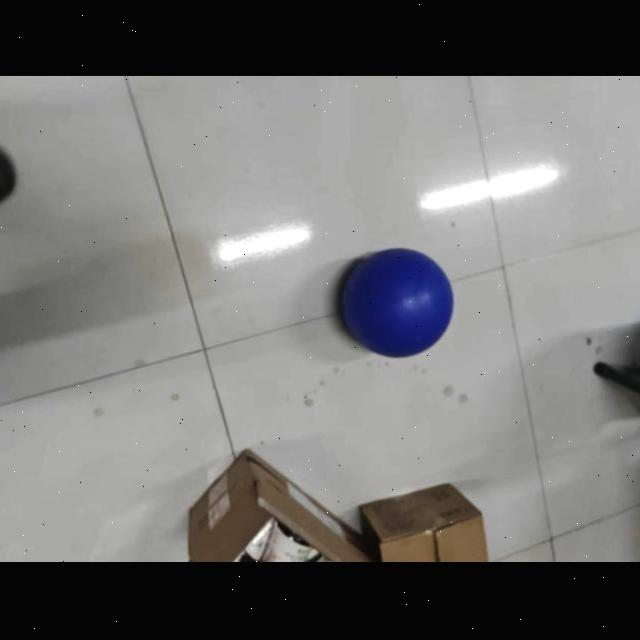B: (333, 240, 457, 360)
